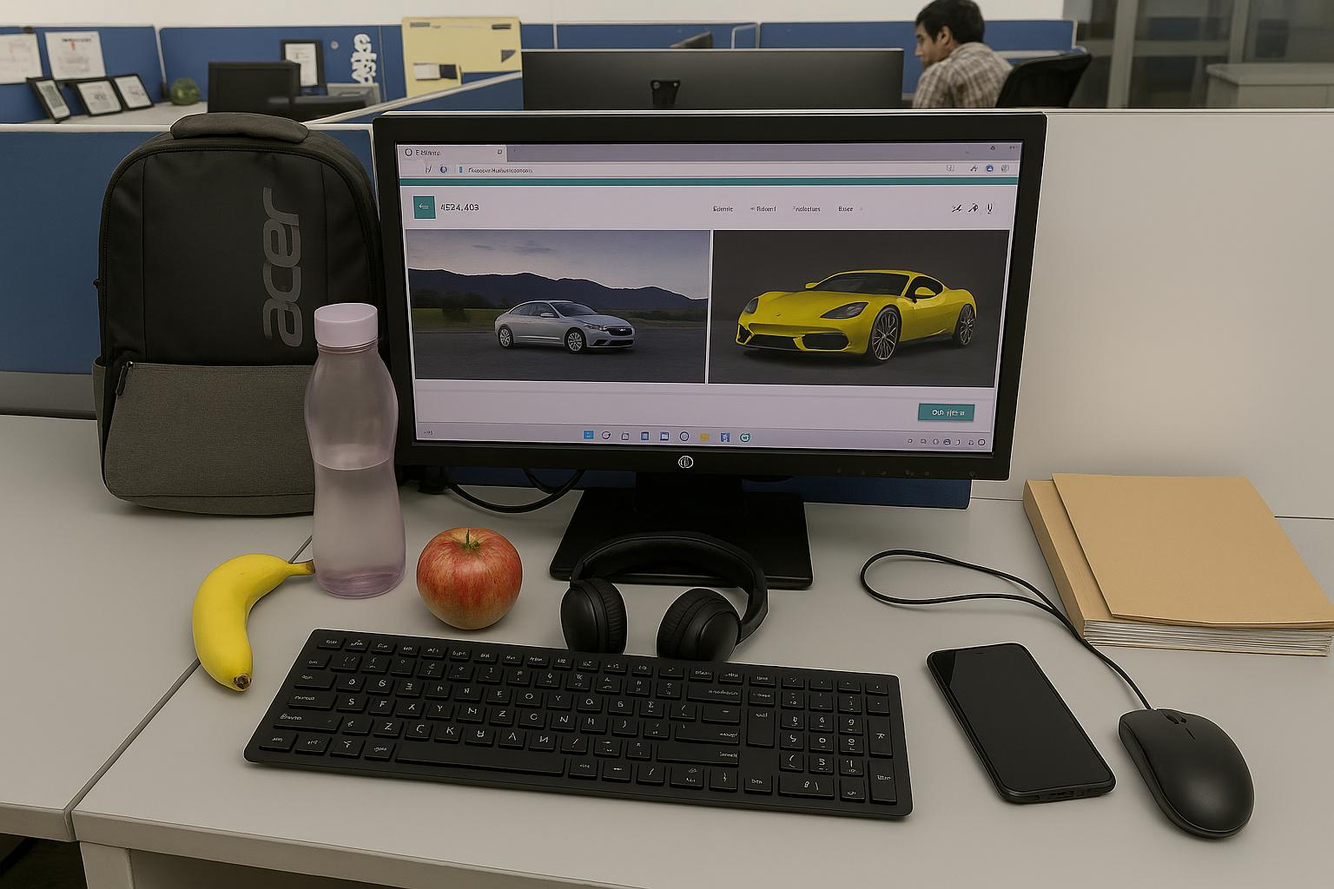bag: (90, 107, 384, 518)
bottle: (292, 283, 413, 609)
desktop: (363, 103, 1053, 596)
file: (1018, 469, 1333, 657)
headphone: (552, 525, 776, 681)
keyboard: (236, 624, 921, 826)
mouse: (1114, 704, 1259, 844)
